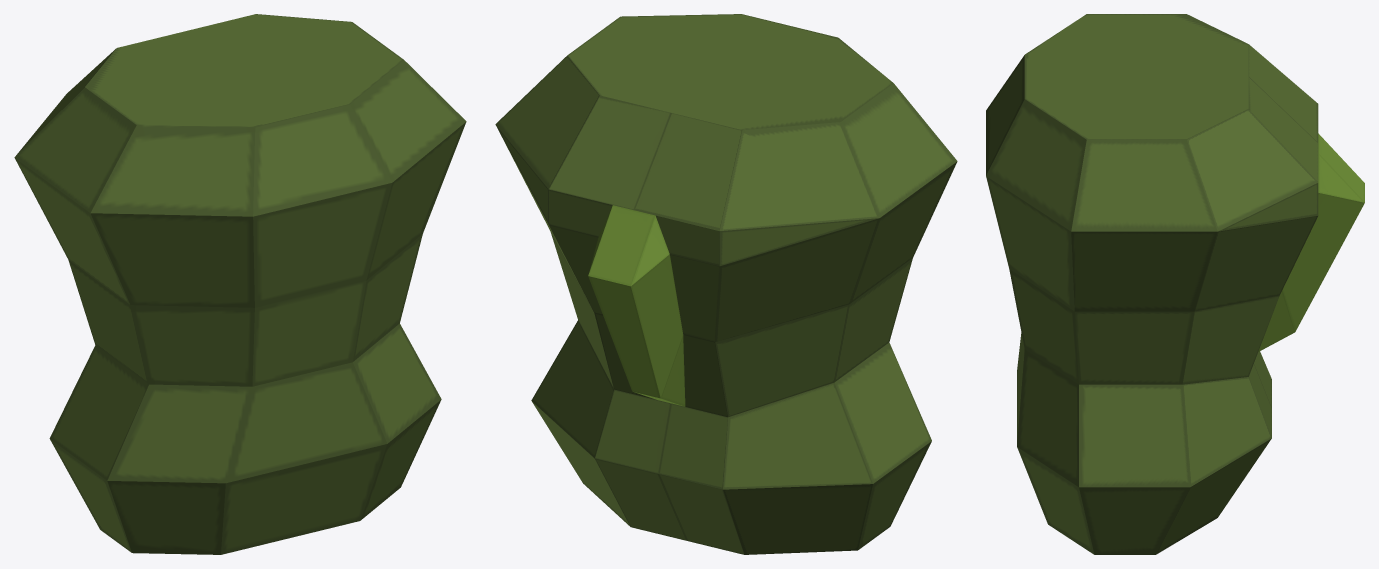
The model's file is Body.fbx.
The picture shows the model from 3 angles, left to right: view 1: azimuth 30°, elevation 25°; view 2: azimuth 150°, elevation 25°; view 3: azimuth 270°, elevation 25°; orthographic projection. The views are drawn at different scales.
Parts seen in each view (by area): view 1: Shape_IndexedFaceSet; view 2: Shape_IndexedFaceSet; view 3: Shape_IndexedFaceSet.
Part boxes in pixels (<box>): Shape_IndexedFaceSet: <box>14,14,466,554</box>; Shape_IndexedFaceSet: <box>495,14,957,554</box>; Shape_IndexedFaceSet: <box>986,14,1364,554</box>.
Size of the model in its own units: 0.3774 by 0.413 by 0.3418.
Materials: 1 (1 with a texture image).
